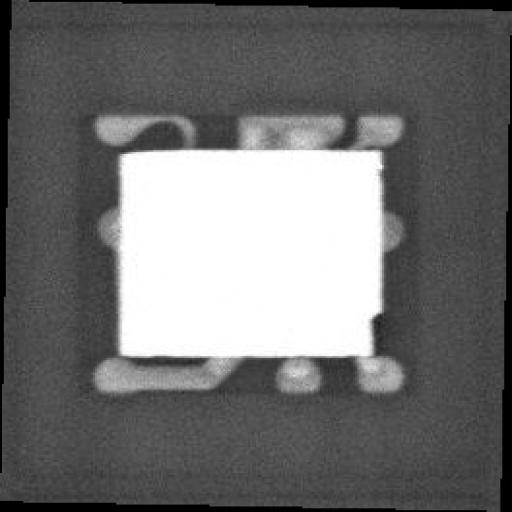DIE_BROKEN: (367, 308, 380, 354)
